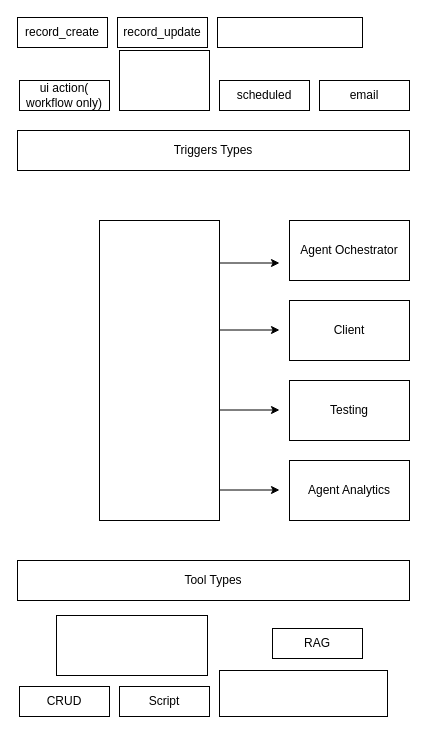
This 427x734 diagram has some shape labels left out. The centre of each missing label's shape, as x and y in pixels:
OOB: Pre-built tools( Web search, knowledge graph, itsm tools, MCP, RAG): the point at 132,645
record_create_or_update: the point at 289,32
Reference Based( Reusing exisiting subflows, flow actions, catalogue item): the point at 303,693
Responsible AI: the point at 159,370
scheduled specific time (daily, weekly, monthly): the point at 164,80
